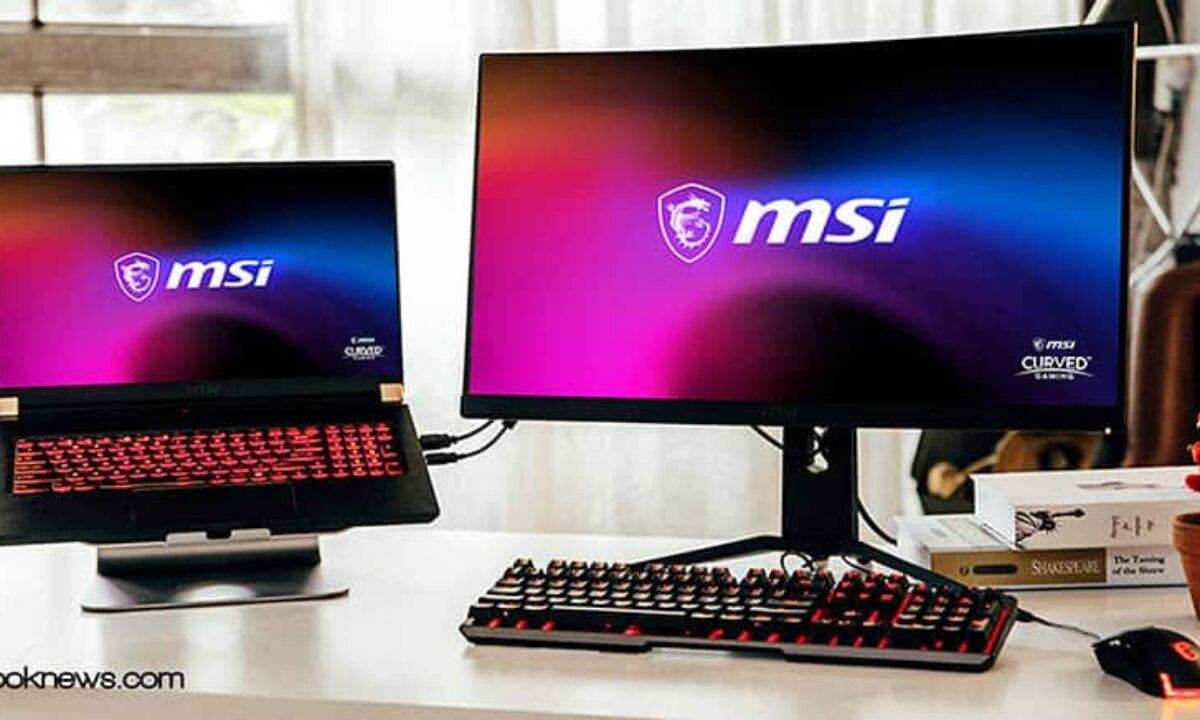monitor: (456, 21, 1161, 622), (0, 156, 440, 549)
